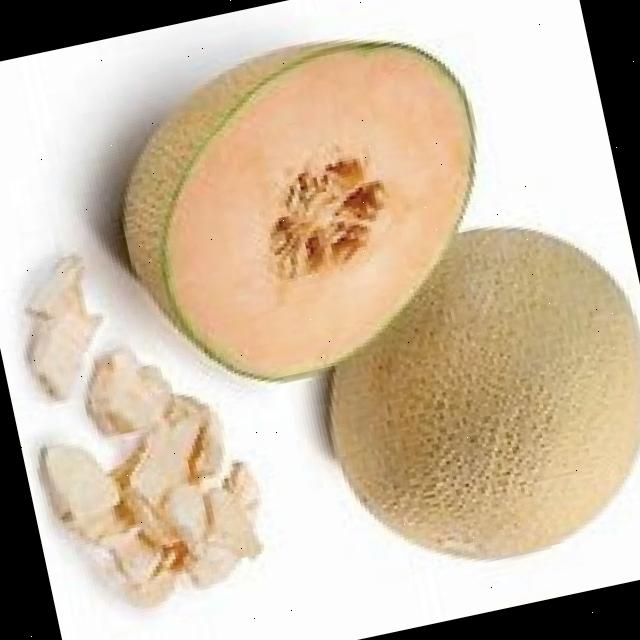Hami Melon: (87, 12, 516, 412), (290, 198, 640, 588)
